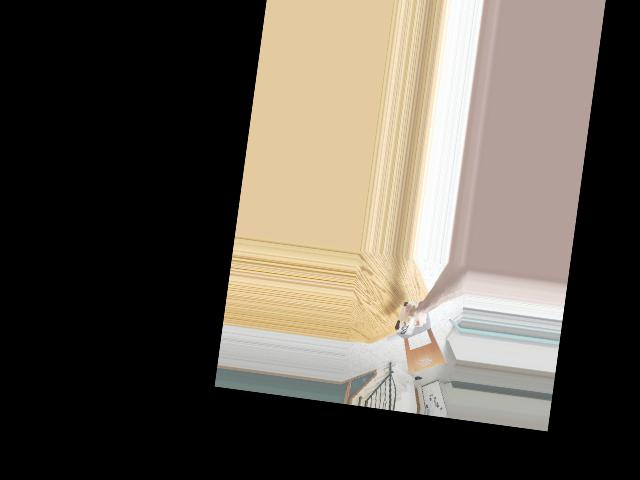cheese: (394, 299, 420, 334)
